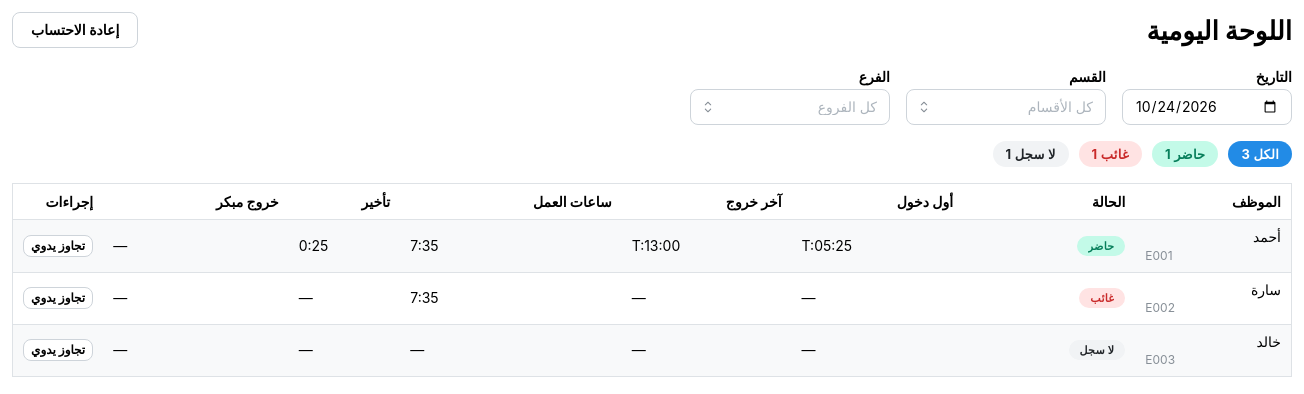
it: شاشات الحضور › اللوحة اليومية: عدّاد الحالات وتصفية بالنقر
The width and height of the screenshot is (1304, 394).
Expected: the text "أحمد" is shown, [1253,228,1281,246]
Expected: the text "الكل 3" is shown, [1241,142,1279,166]
Click the text "غائب 1".
click(1110, 154)  # box [1092,142,1129,166]
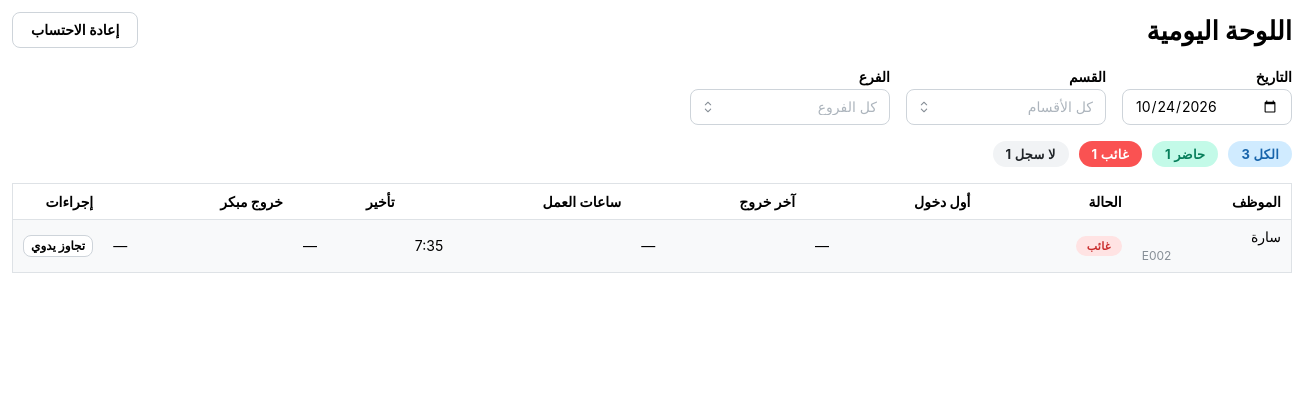
Expected: the text "سارة" is shown, [1251,228,1281,246]
Expected: the text "أحمد" is gone
